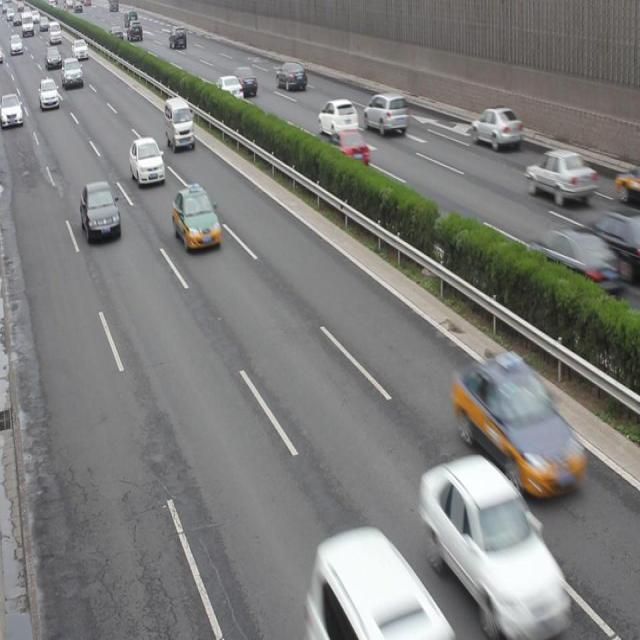car: (421, 457, 567, 618), (455, 355, 584, 500), (314, 530, 440, 640), (527, 228, 616, 301), (525, 146, 595, 205), (582, 206, 640, 267), (173, 185, 221, 254), (81, 180, 121, 243), (469, 105, 522, 149), (363, 90, 407, 136), (324, 128, 368, 169), (130, 136, 164, 187), (317, 97, 358, 138), (275, 59, 307, 94), (211, 75, 243, 106), (230, 65, 258, 96)
truck: (164, 96, 195, 153)
